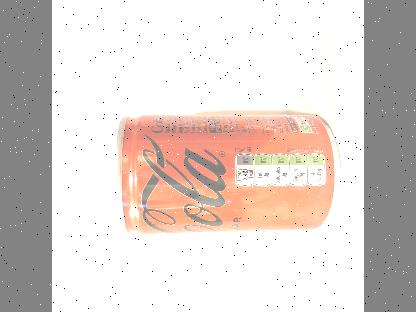Can: (115, 112, 342, 234)
